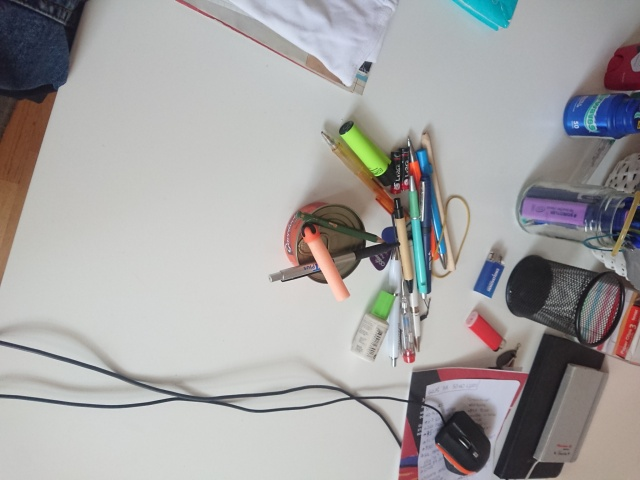Gavrilovic Pork Liver Pate 100g: (281, 198, 368, 285)
